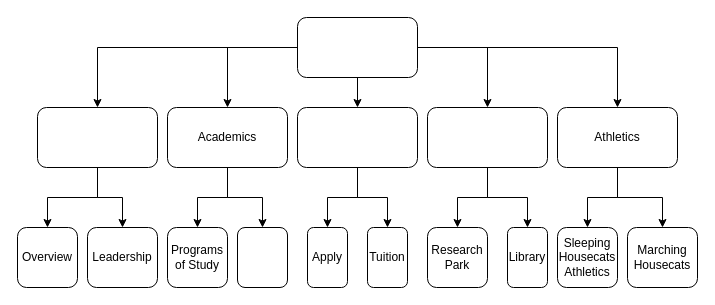
The diagram is 715 pixels wide and 305 high, and some of its shapes have lost their labels. Here are the shapes that lost their labels. From the top down, the centre of each, then its label:
pixel 357 47: Home
pixel 97 137: About
pixel 357 137: Admissions
pixel 487 137: Research
pixel 262 257: Course Explorer
